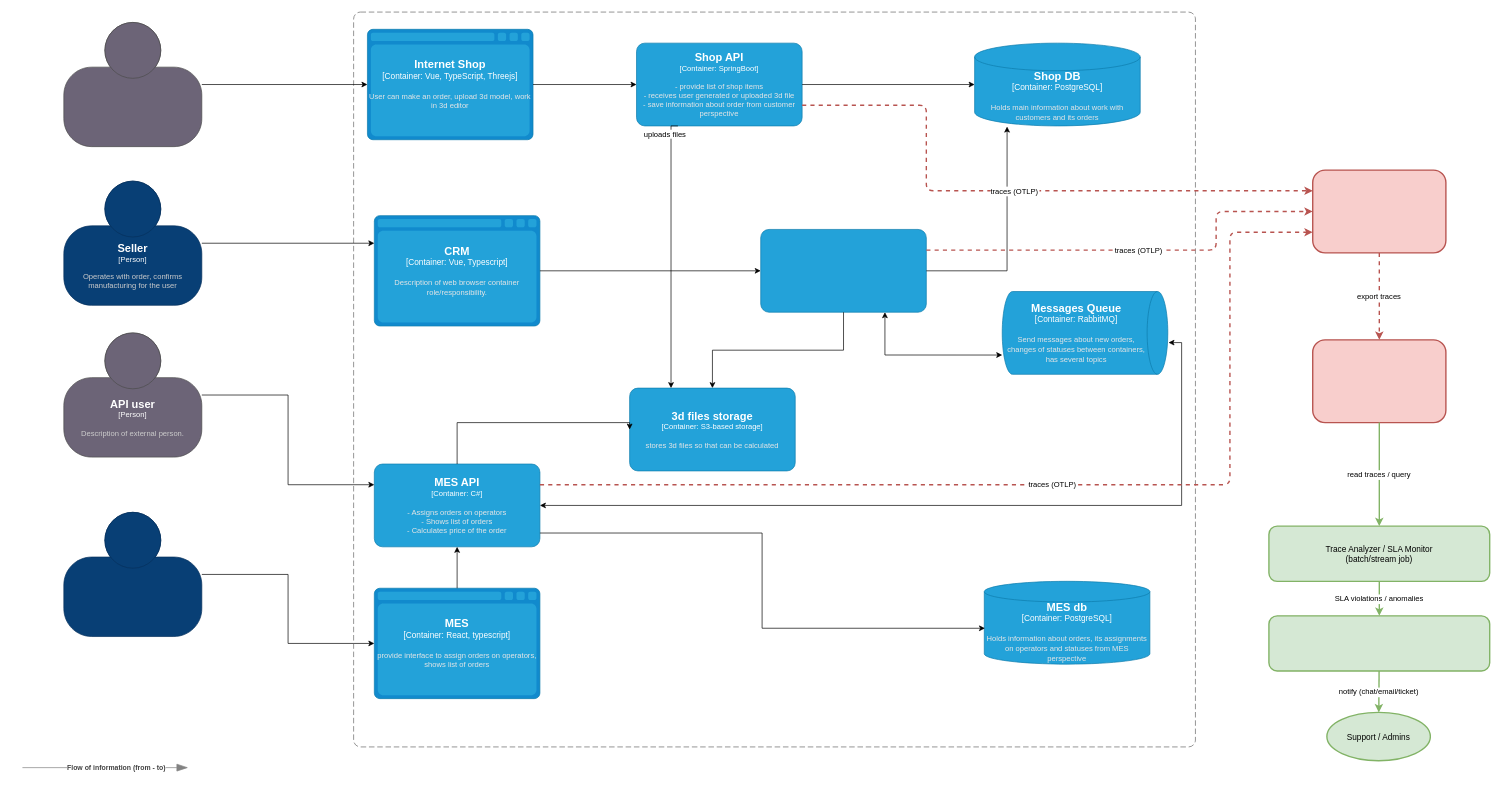
This 1502x791 diagram has some shape labels left out. The shapes that lost their labels are listed below. From the top down, each one's box as (x1, y1, x2, y2) in pixels, then its label:
(63, 22, 202, 147): Customer [Person] Description of external person.
(1312, 169, 1446, 253): OpenTelemetry Collector
(760, 229, 926, 312): CRM API [Container: SpringBoot] Description of container role/responsibility.
(353, 11, 1195, 747): Jewerly Store System [Software System]
(1312, 339, 1446, 423): Jaeger Trace Storage & UI
(63, 512, 202, 637): Operator [Person] Takes order in work, manufactures jewerly
(1268, 615, 1490, 671): Alerting & Notification (Grafana Alerting / Alertmanager)
